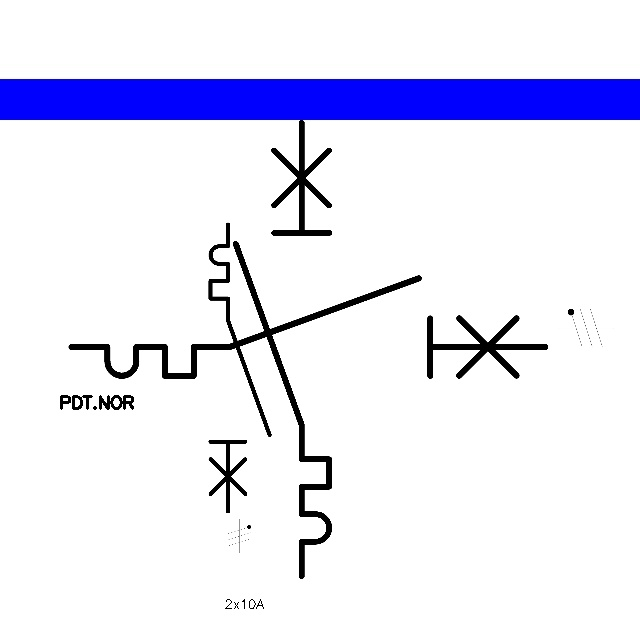interruptor_termomagnetico: (59, 266, 557, 388), (224, 111, 341, 588), (203, 217, 277, 518)
